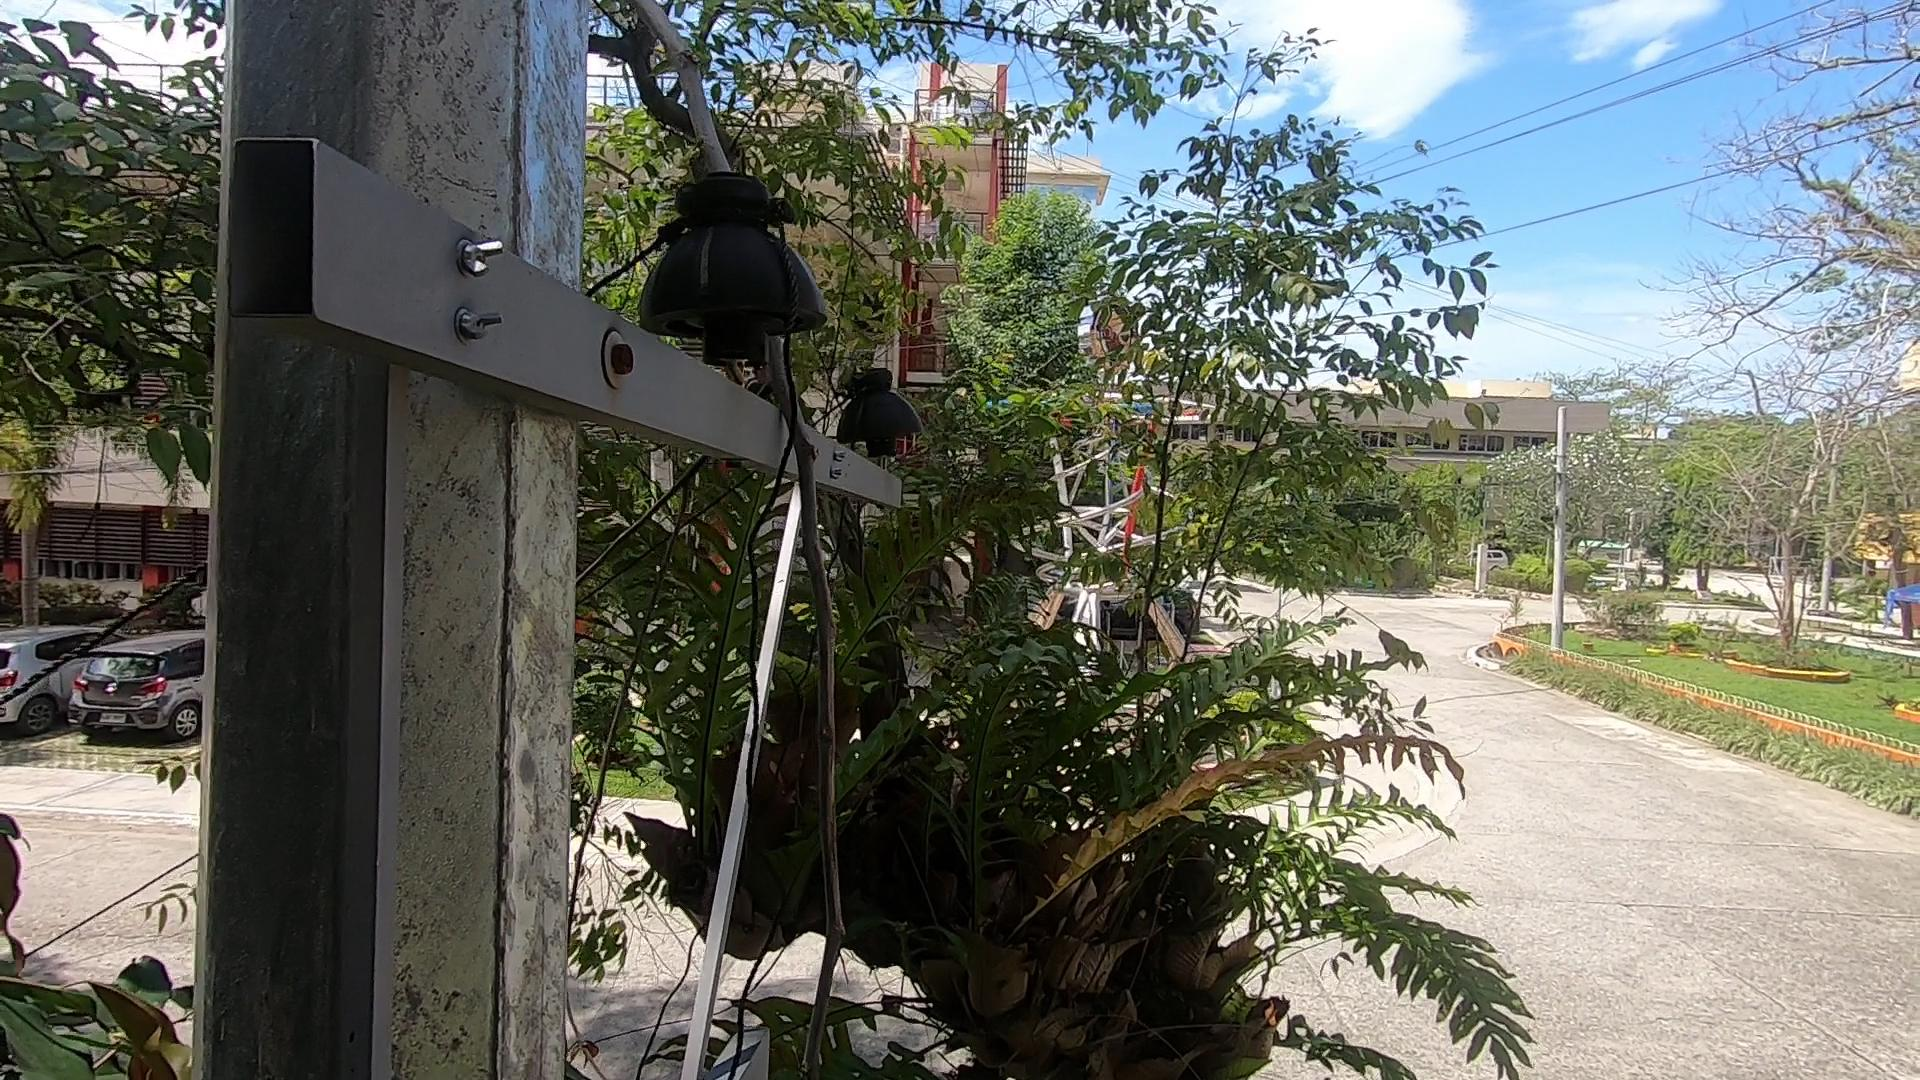tree branch: (592, 11, 967, 1062)
